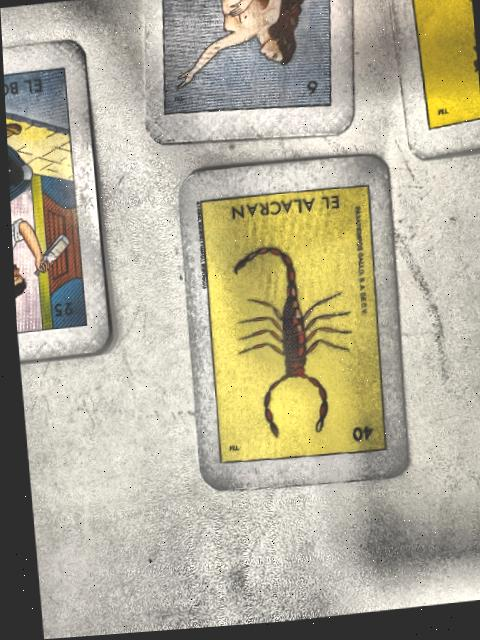El Alacran: (199, 192, 380, 466)
